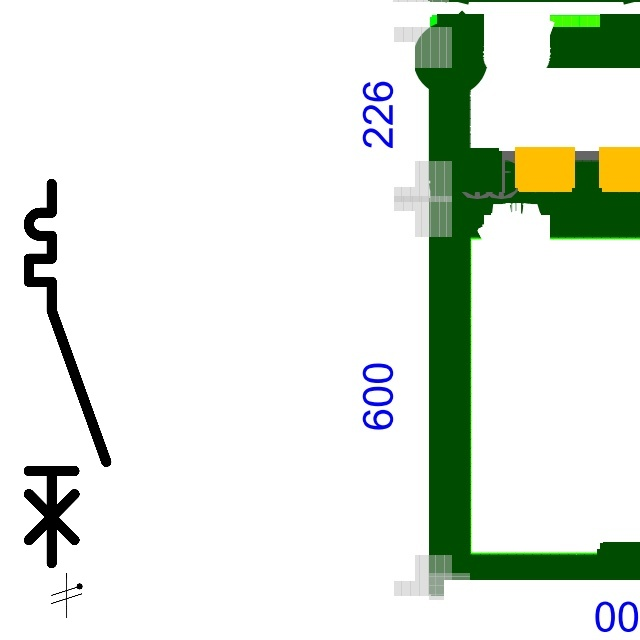interruptor_termomagnetico: (19, 174, 116, 572)
